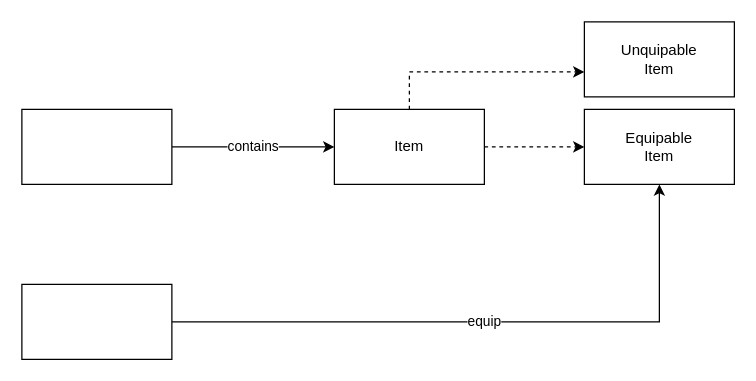
Some shapes in this 756 by 381 pixel diagram are drawn without their labels. Each missing label, with the box of its shape:
Equipment: (21, 283, 172, 359)
Inventory: (21, 108, 172, 184)
